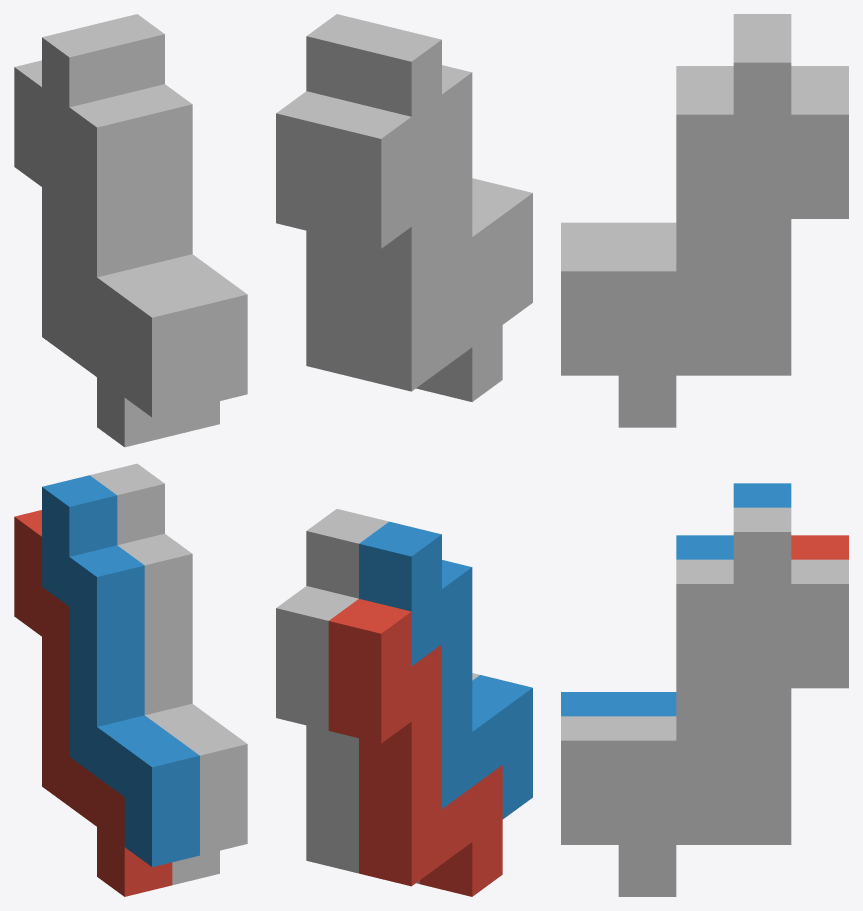
The model's file is tiling.obj.
3 views of the same model, side by side, from view 1: azimuth 30°, elevation 25°; view 2: azimuth 150°, elevation 25°; view 3: azimuth 270°, elevation 25° (orthographic). The views are drawn at different scales.
Visible parts, largest first — view 1: copy_1_domain_4, copy_1_domain_2, copy_1_domain_6, copy_1_domain_8, copy_1_domain_1, copy_1_domain_3, copy_1_domain_7, copy_1_domain_5; view 2: copy_1_domain_1, copy_1_domain_3, copy_1_domain_4, copy_1_domain_2, copy_1_domain_7, copy_1_domain_5, copy_1_domain_8, copy_1_domain_6; view 3: copy_1_domain_6, copy_1_domain_8, copy_1_domain_5, copy_1_domain_7, copy_1_domain_2, copy_1_domain_4, copy_1_domain_1, copy_1_domain_3.
Part boxes in pixels (x1,y1,x2,y2): copy_1_domain_4: (42, 25, 199, 417); copy_1_domain_2: (42, 475, 199, 866); copy_1_domain_6: (90, 463, 247, 855); copy_1_domain_8: (90, 14, 247, 405); copy_1_domain_1: (14, 510, 172, 896); copy_1_domain_3: (14, 60, 172, 447); copy_1_domain_7: (172, 401, 219, 435); copy_1_domain_5: (172, 850, 219, 885); copy_1_domain_1: (328, 599, 502, 896); copy_1_domain_3: (328, 104, 502, 401); copy_1_domain_4: (359, 27, 532, 324); copy_1_domain_2: (359, 521, 532, 819); copy_1_domain_7: (276, 91, 419, 389); copy_1_domain_5: (276, 586, 419, 883); copy_1_domain_8: (306, 14, 479, 185); copy_1_domain_6: (306, 509, 479, 680); copy_1_domain_6: (561, 507, 791, 844); copy_1_domain_8: (561, 38, 791, 375); copy_1_domain_5: (618, 559, 848, 896); copy_1_domain_7: (618, 90, 848, 427); copy_1_domain_2: (561, 483, 791, 716); copy_1_domain_4: (561, 14, 791, 246); copy_1_domain_1: (791, 535, 848, 559); copy_1_domain_3: (791, 66, 848, 90).
Size of the model in its own units: 2 by 16 by 5.
